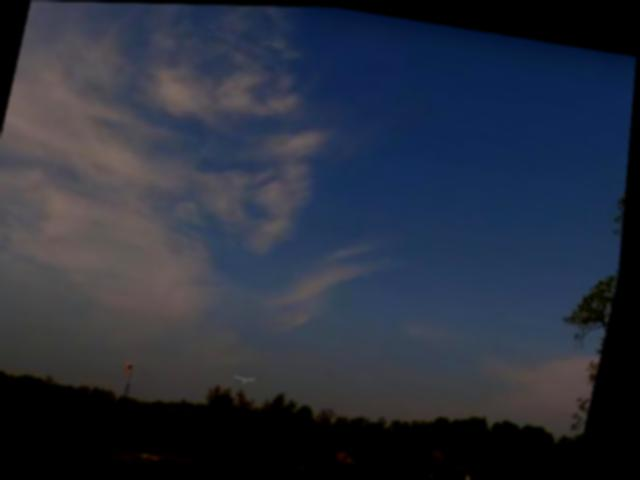iha: (241, 372, 261, 384)
